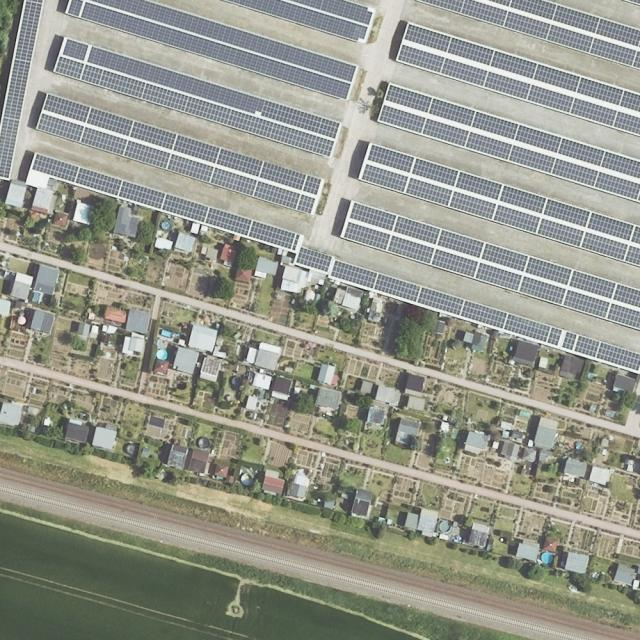PV: (33, 152, 640, 377), (342, 201, 640, 328), (53, 33, 339, 161), (36, 92, 326, 218), (359, 145, 639, 269), (379, 83, 639, 207), (69, 0, 357, 102), (397, 20, 639, 137), (219, 0, 375, 44)
